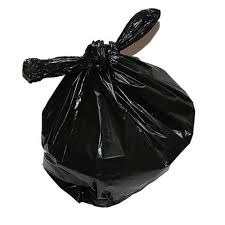Trash: (17, 4, 202, 213)
